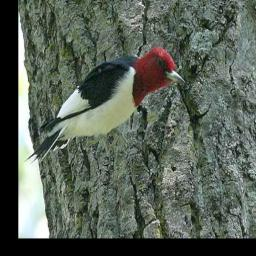Woodpecker: (21, 37, 192, 177)
